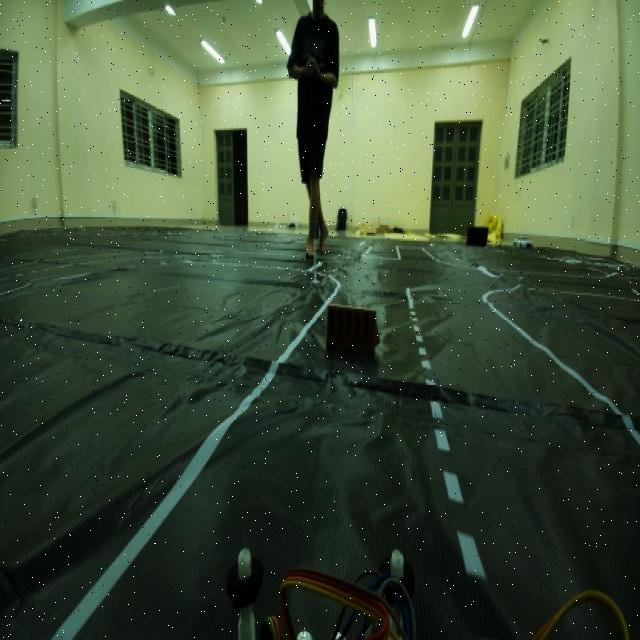roadblock: (323, 297, 386, 381)
